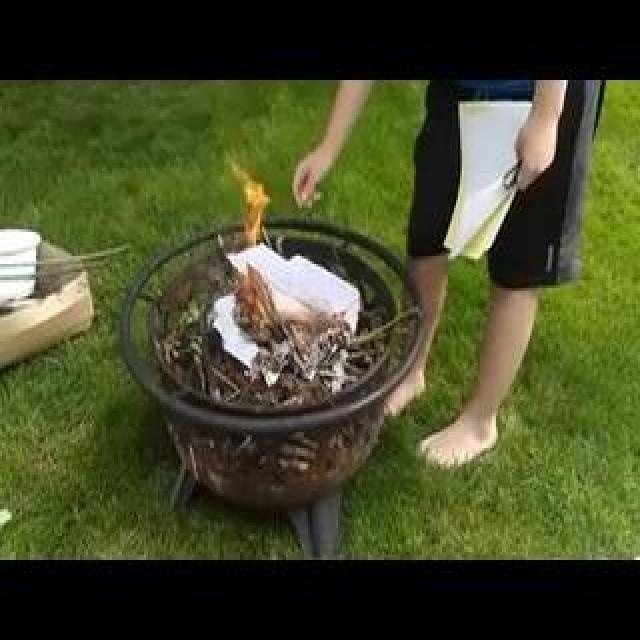Fire: (78, 202, 249, 238)
